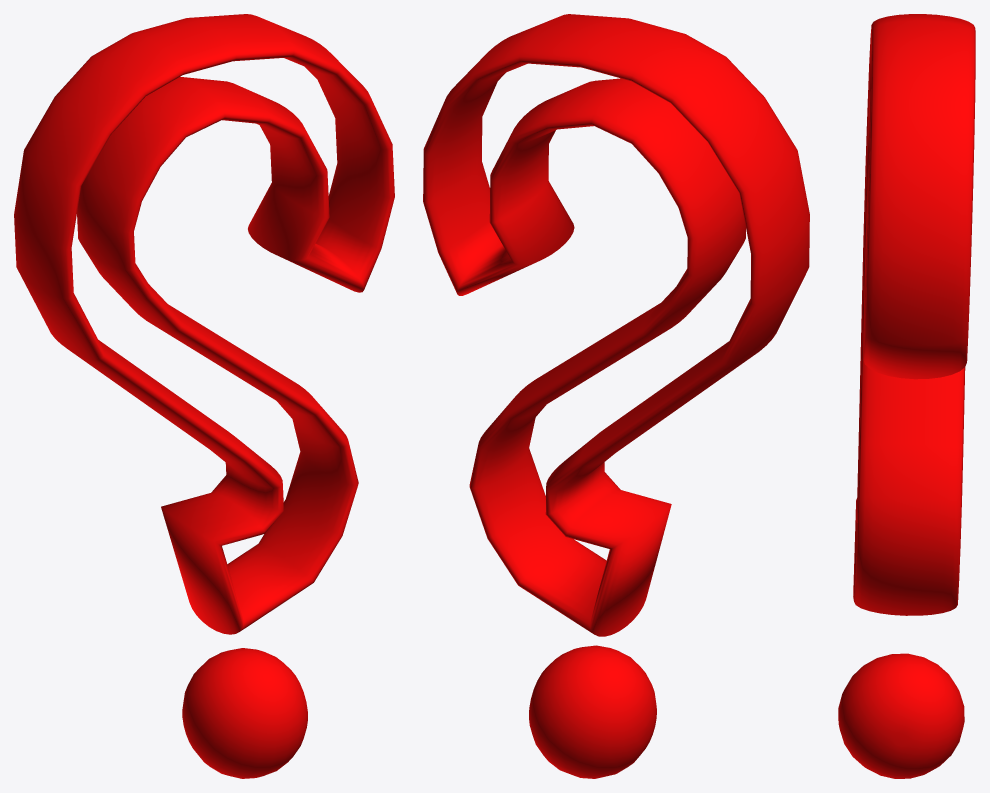
The picture shows the model from 3 angles, left to right: view 1: azimuth 30°, elevation 25°; view 2: azimuth 150°, elevation 25°; view 3: azimuth 270°, elevation 25°; orthographic projection. The views are drawn at different scales.
Parts seen in each view (by area): view 1: SketchUp (×2); view 2: SketchUp (×2); view 3: SketchUp (×2).
Part boxes in pixels (x1,y1,x2,y2): SketchUp (×2): [14, 14, 394, 778]; SketchUp (×2): [423, 14, 809, 778]; SketchUp (×2): [838, 14, 975, 778].
Bounding box in the file's own units: 14.82 × 5.29 × 30.48.
